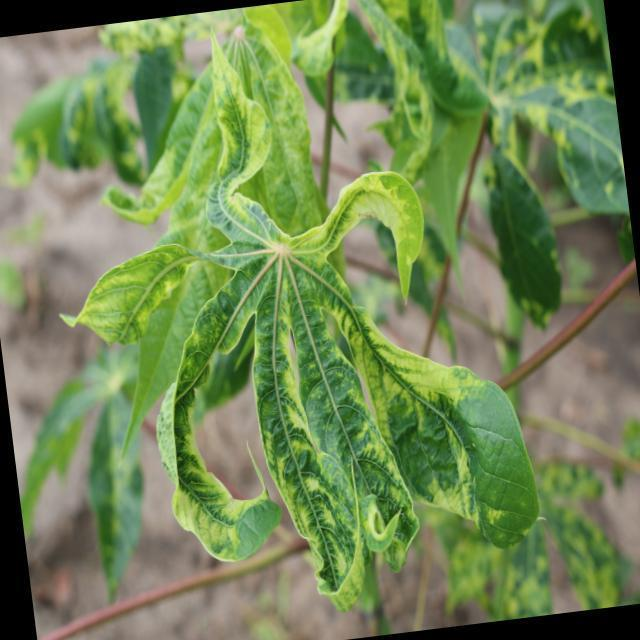Mosaic Virus: (242, 256, 485, 618), (448, 0, 639, 312), (142, 291, 266, 584), (178, 34, 284, 275)
